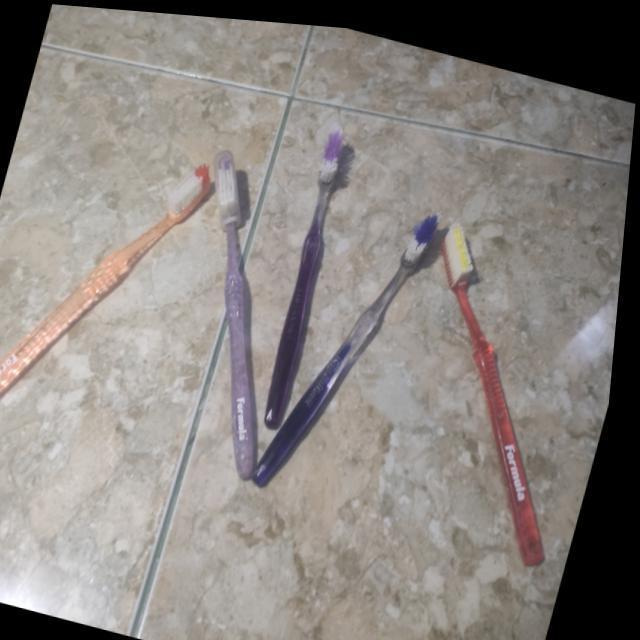toothbrush: (0, 0, 416, 164), (0, 393, 330, 451)
